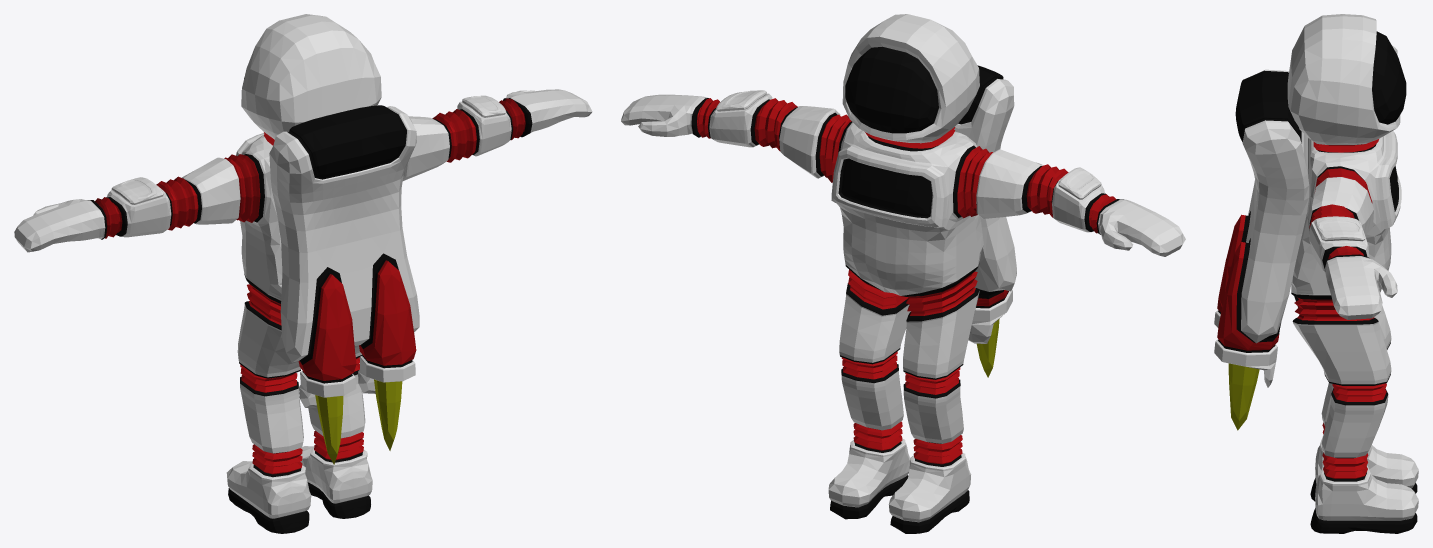
The model's file is astronaut.obj.
3 renders of one model, left to right at view 1: azimuth 30°, elevation 25°; view 2: azimuth 150°, elevation 25°; view 3: azimuth 270°, elevation 25°, orthographic. The views are drawn at different scales.
Parts seen in each view (by area): view 1: Cube.001; view 2: Cube.001; view 3: Cube.001.
Part boxes in pixels (bbox=[...]): Cube.001: bbox=[14, 14, 592, 533]; Cube.001: bbox=[621, 14, 1185, 533]; Cube.001: bbox=[1214, 14, 1418, 533].
Size of the model in its own units: 12.1 by 10.05 by 3.8.
